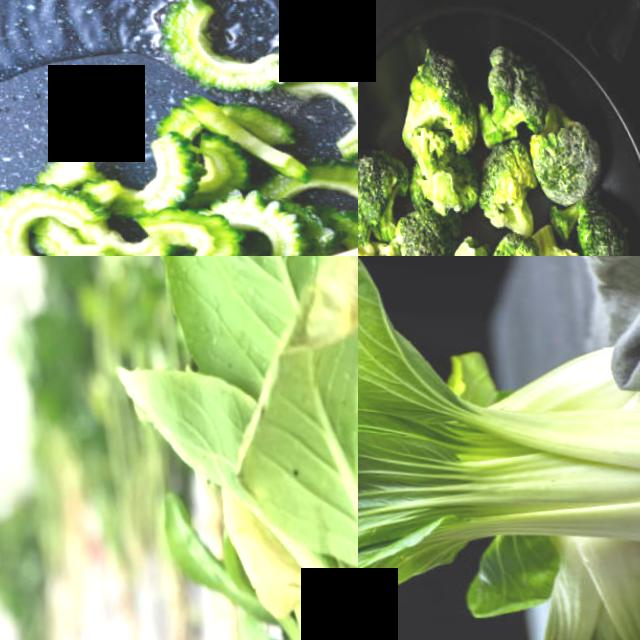-: (399, 24, 480, 140), (556, 157, 638, 256), (529, 115, 608, 207), (381, 171, 456, 256), (479, 43, 533, 140), (465, 146, 527, 225), (358, 146, 393, 227), (470, 228, 547, 256)
bok choy: (117, 256, 358, 640), (358, 325, 640, 590), (382, 564, 640, 640)
